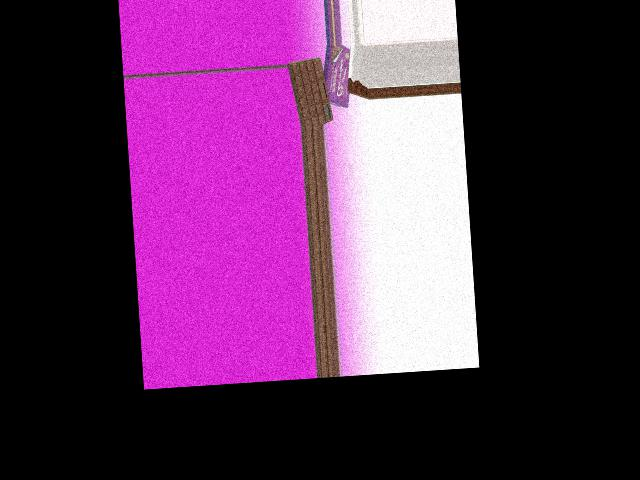chocolate: (287, 57, 334, 123)
